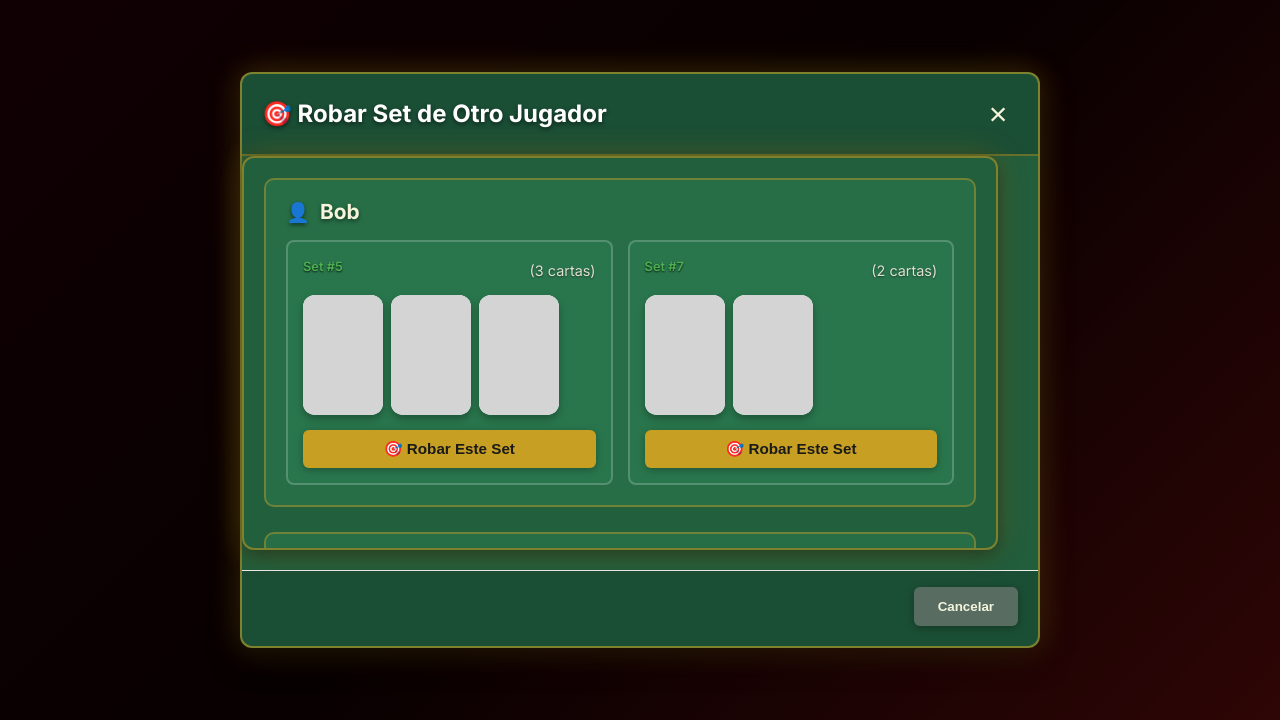
Test: RobarSetModal Component › Selección de sets › debería mostrar botón de confirmar cuando hay un set seleccionado
Expected: the text "🎯 Robar Set Seleccionado" is not shown
# Seleccionar un set
What coordinates should you click on to do the following:
click the 1st element with class "set-item"
I would click on:
 (449, 363)
Its box is [286,240,613,486].
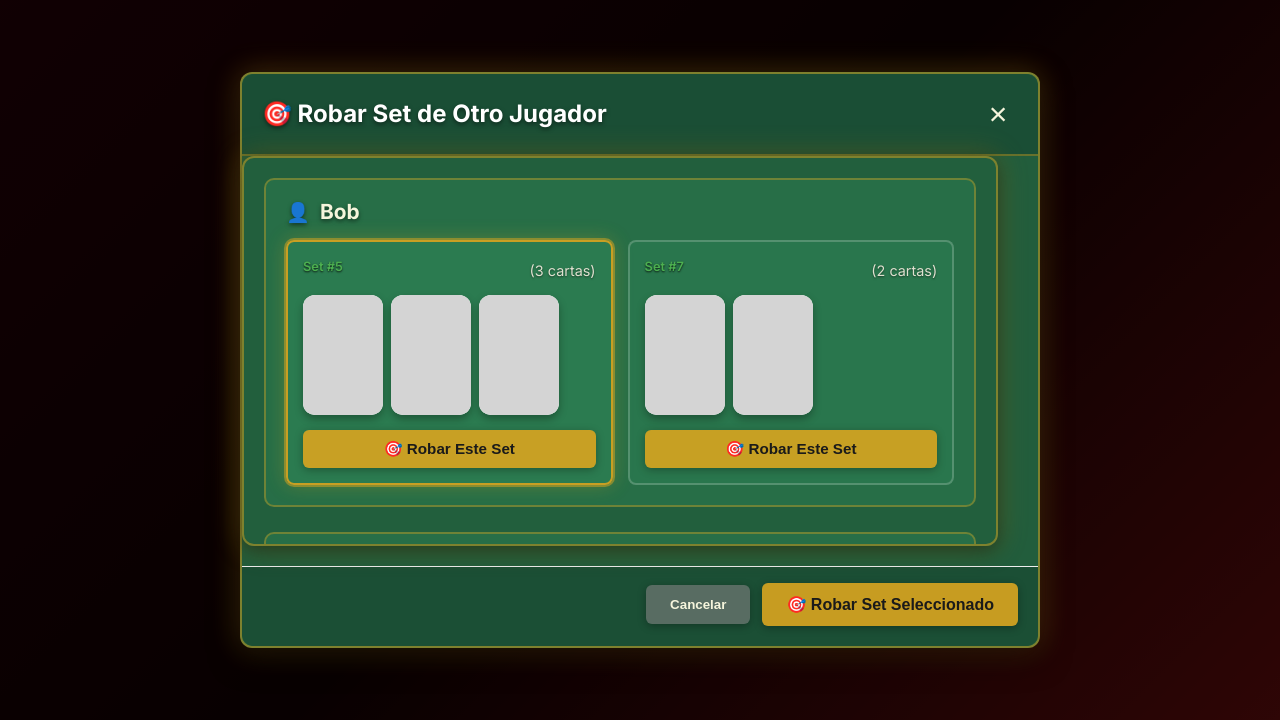
Expected: the button "🎯 Robar Set Seleccionado" is shown, [762,583,1018,626]
